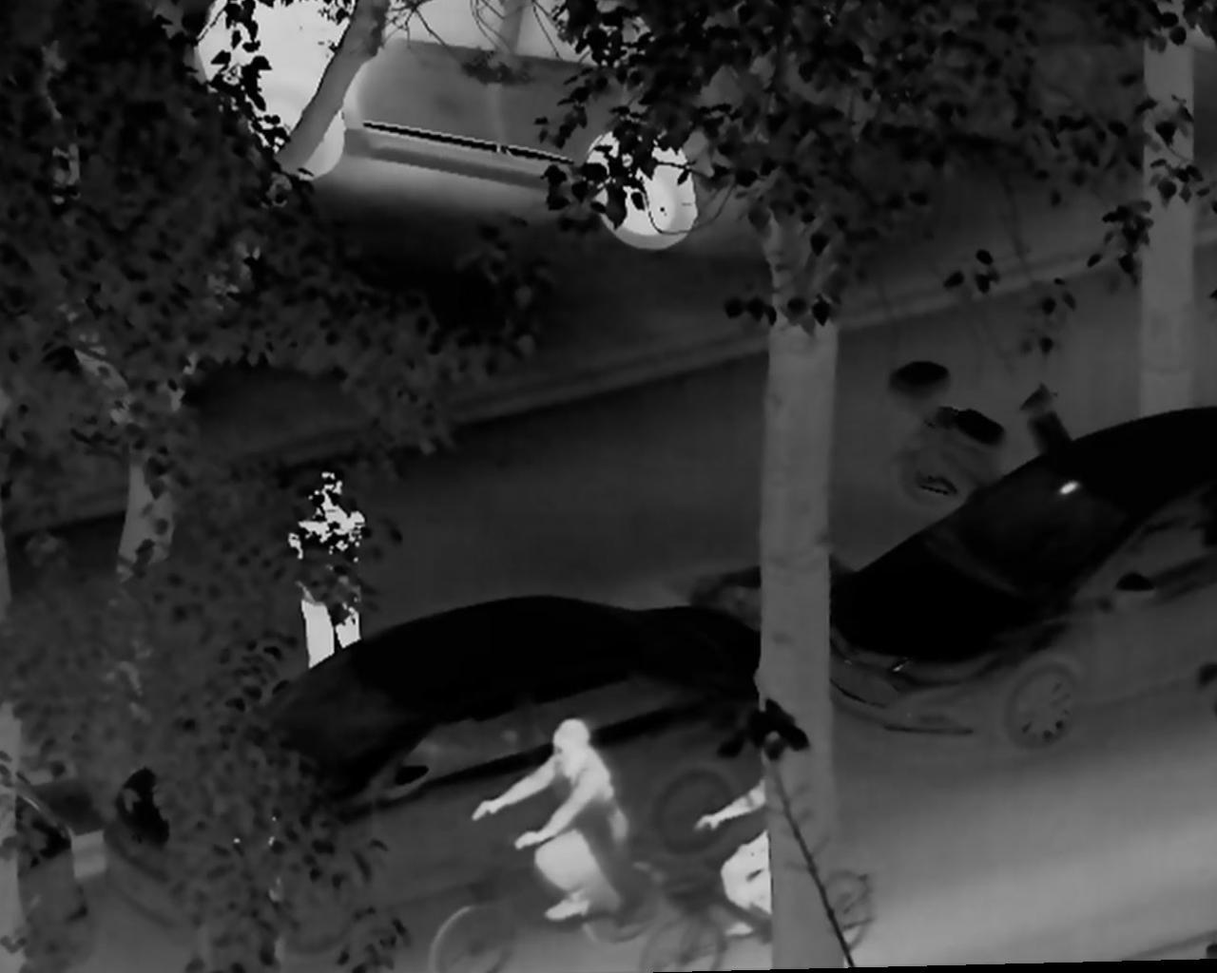person: (469, 710, 628, 936), (690, 725, 777, 946), (284, 469, 367, 678)
